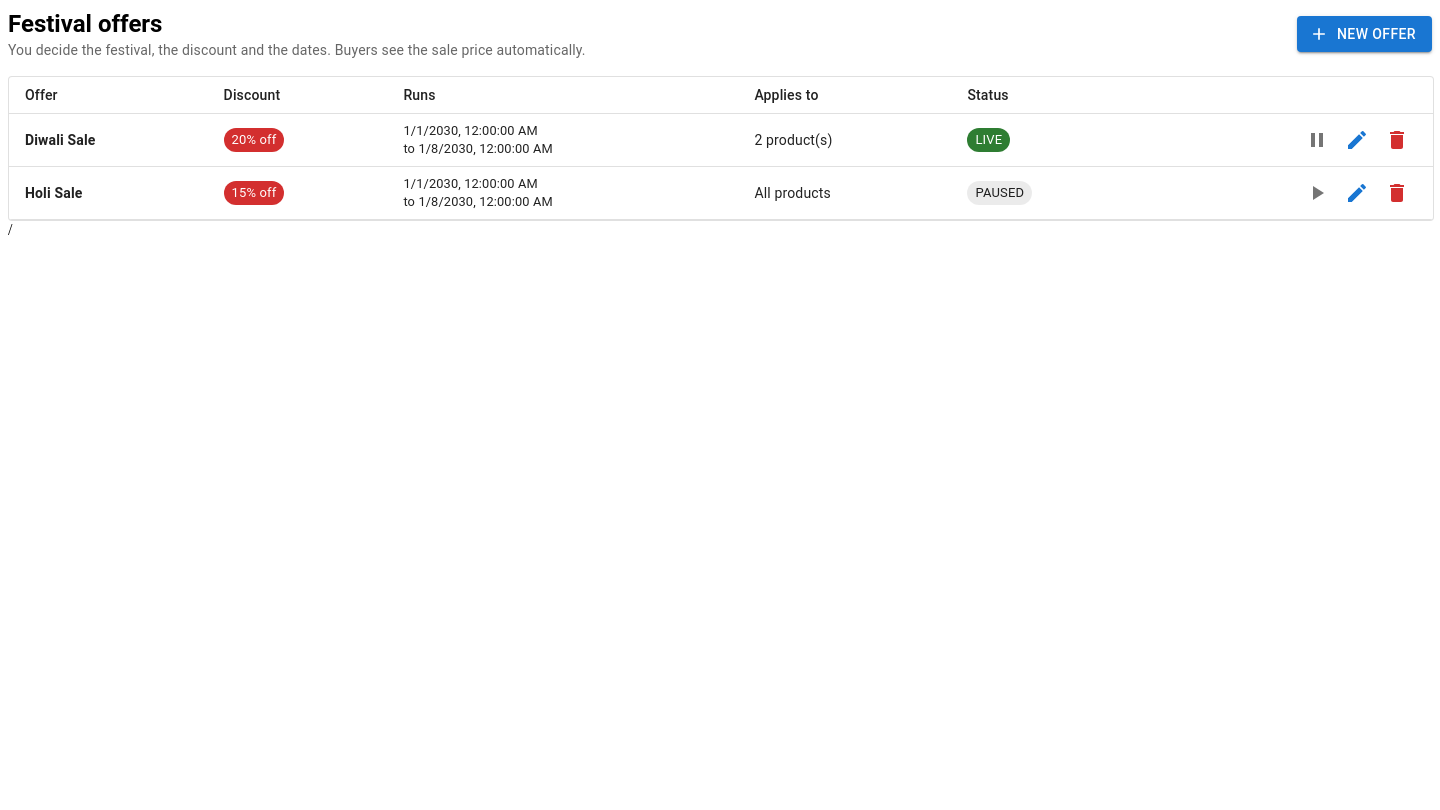
OfferManager create and edit › names the offer after the festival
Expected: the text "Diwali Sale" is shown, [9,114,208,166]
Click the button "New offer" at (1364, 34), box [1297,16,1432,52]
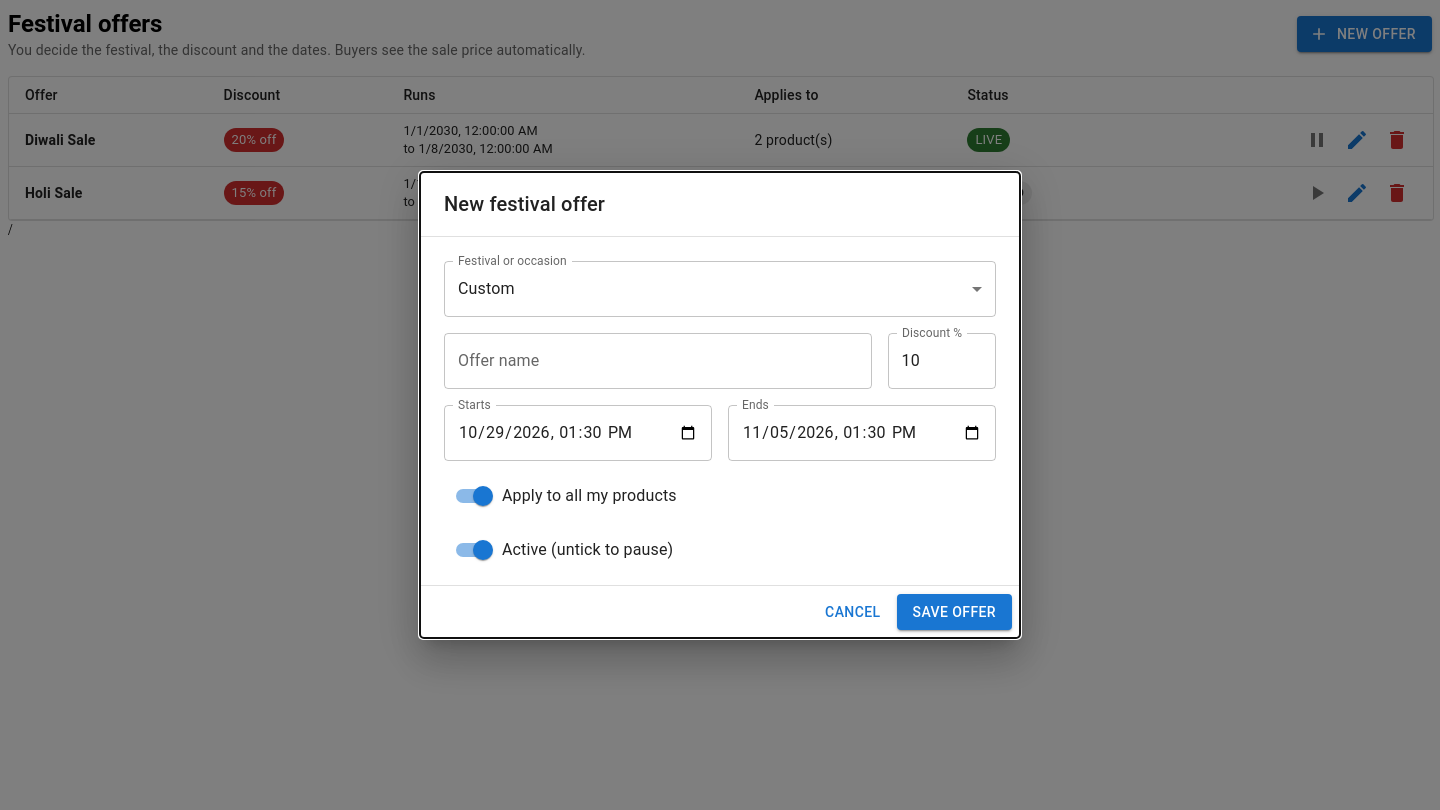
Select "Diwali" in the dropdown labelled "Festival or occasion" at (720, 289), box [444,261,996,317]
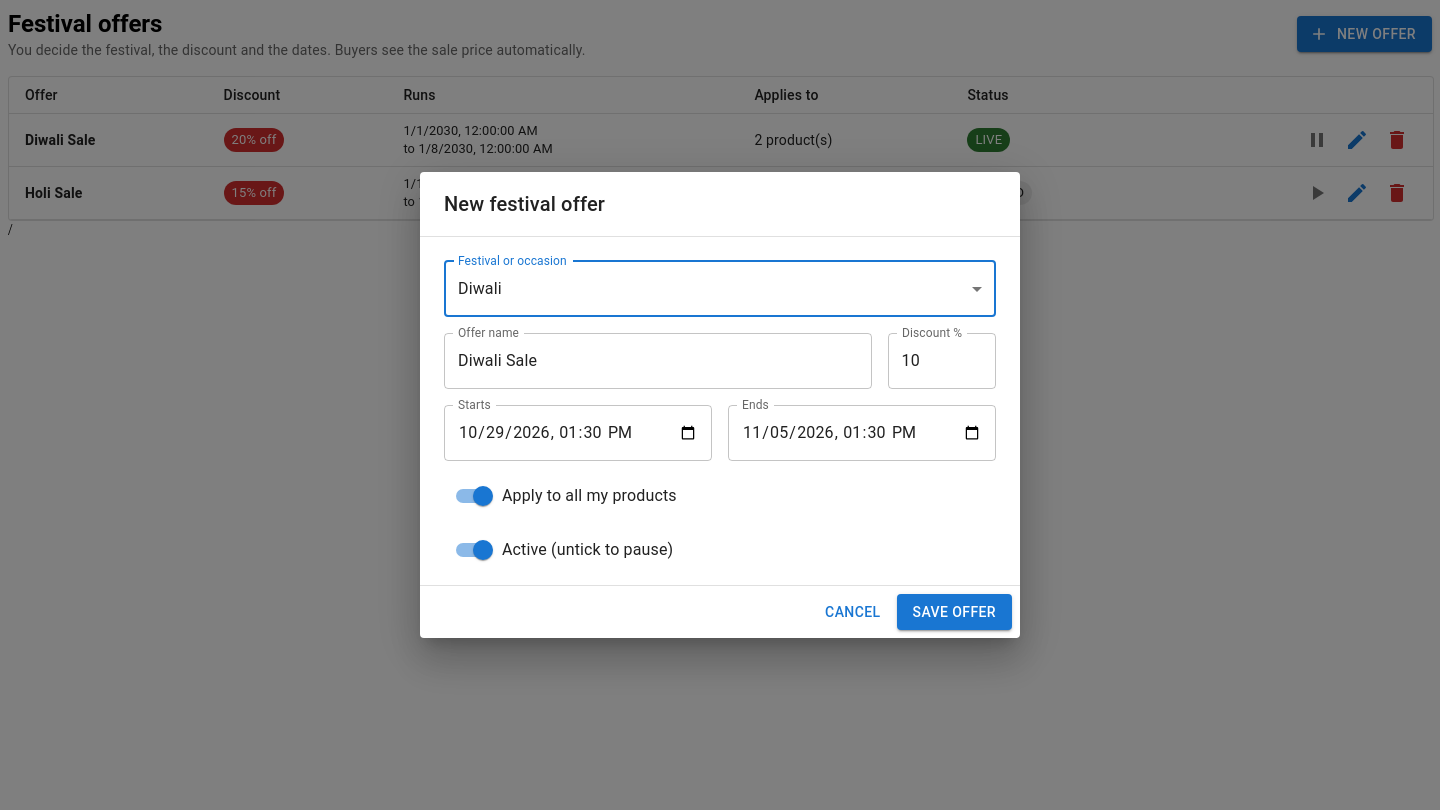
Expected: the field labelled "Offer name" holds "Diwali Sale", [444,333,872,389]
